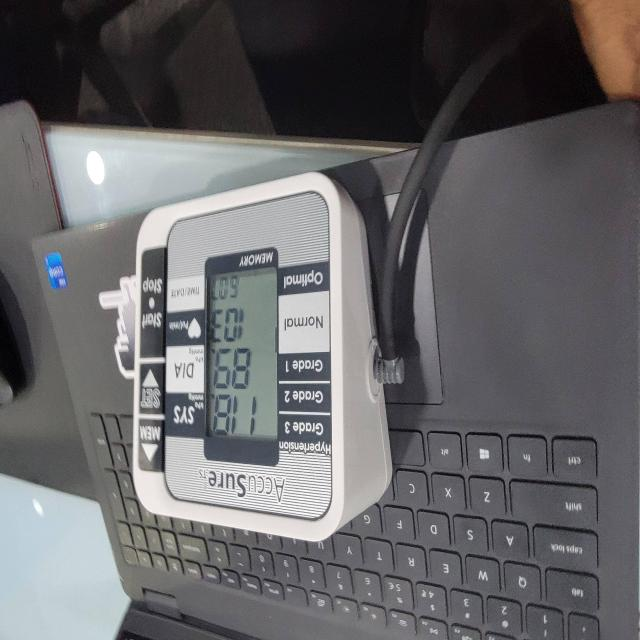bp: (129, 173, 391, 544)
